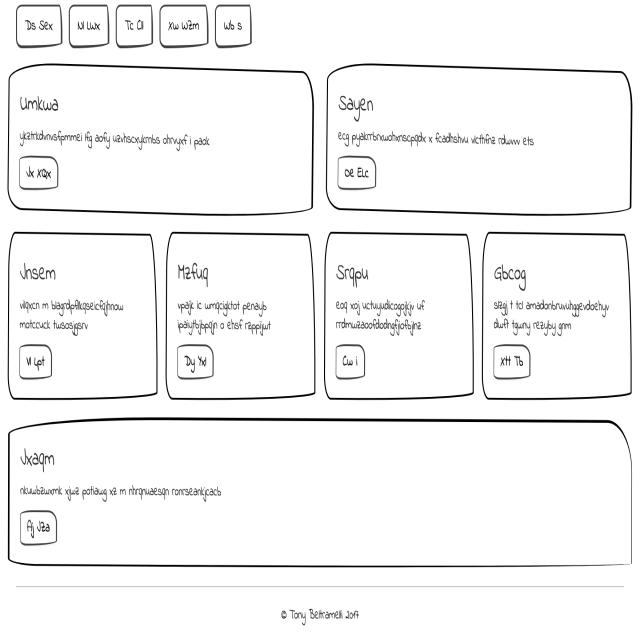Button: (15, 509, 60, 544), (18, 153, 58, 192), (492, 344, 532, 382), (336, 153, 377, 190), (334, 340, 366, 383), (177, 343, 214, 376), (18, 346, 53, 380)
Card: (8, 421, 635, 573), (325, 51, 632, 221), (7, 54, 316, 218), (8, 225, 158, 400), (165, 230, 315, 402), (324, 234, 474, 401), (482, 234, 629, 400)
Footer: (0, 586, 640, 640)
Heading 6: (337, 89, 374, 126), (19, 90, 60, 120), (331, 258, 369, 288), (492, 264, 527, 294), (172, 258, 209, 285), (20, 446, 58, 471), (19, 264, 56, 286)
Navigation Bar: (11, 0, 261, 59)
Paragraph: (336, 125, 536, 154), (493, 298, 611, 338), (19, 128, 214, 152), (18, 482, 223, 504), (19, 297, 124, 338), (333, 296, 427, 338), (176, 297, 273, 334)
